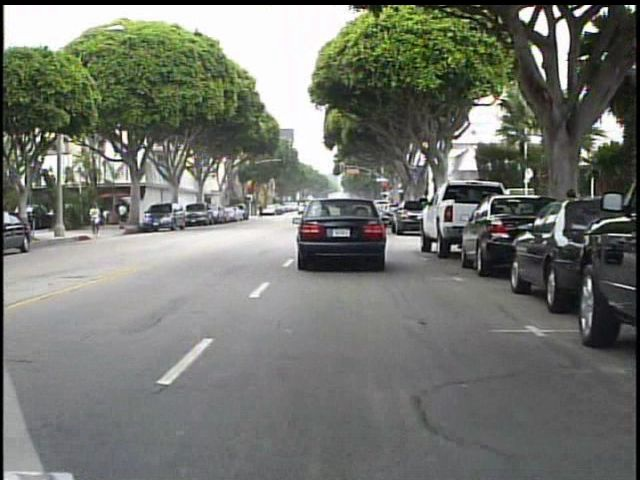person: (88, 197, 106, 238), (118, 198, 131, 229), (254, 200, 269, 223)
